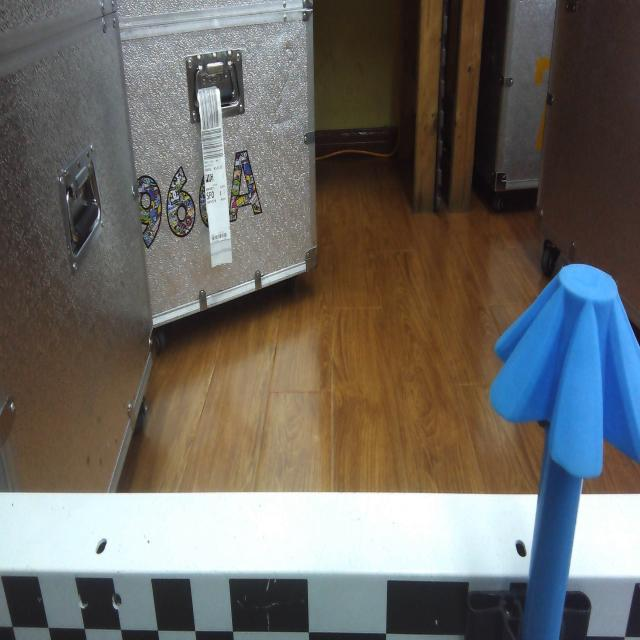zblue-Stake-Head: (490, 262, 640, 479)
